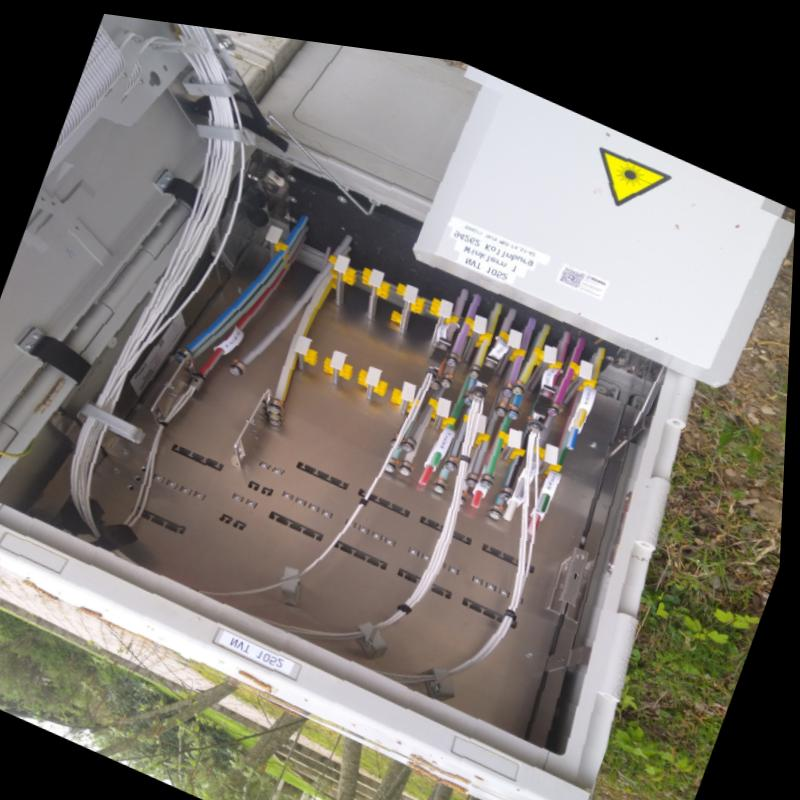NT-Gehause: (0, 12, 719, 800)
Spleiskassetten: (54, 16, 135, 154)
